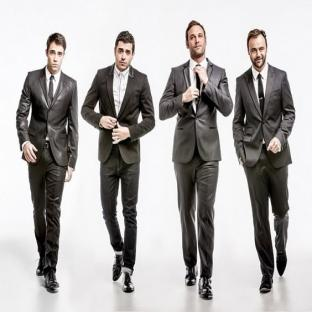Human: (159, 20, 232, 296), (81, 31, 154, 292), (232, 29, 295, 292), (16, 33, 78, 291)
